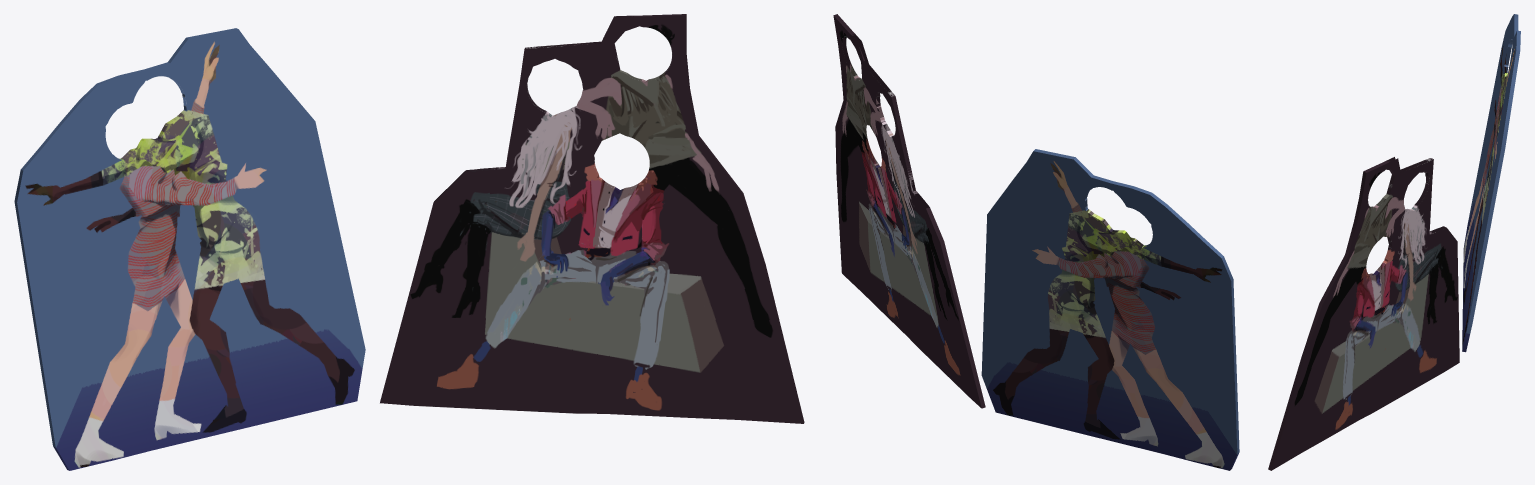
The model's file is WorldLayout_Cutouts.fbx.
3 views of the same model, side by side, from view 1: azimuth 30°, elevation 25°; view 2: azimuth 150°, elevation 25°; view 3: azimuth 270°, elevation 25° (orthographic). The views are drawn at different scales.
Visible parts, largest first — view 1: Cutout02, Cutout01; view 2: Cutout02, Cutout01; view 3: Cutout01, Cutout02.
Boxes of the visible parts, x1,y1,x2,y2 form: Cutout02: (14,28,365,470); Cutout01: (380,14,804,423); Cutout02: (981,149,1239,470); Cutout01: (833,14,985,408); Cutout01: (1268,157,1459,470); Cutout02: (1462,14,1520,352).
Bounding box in the file's own units: 3.37 × 1.92 × 1.57.
Materials: 2 (2 with a texture image).
